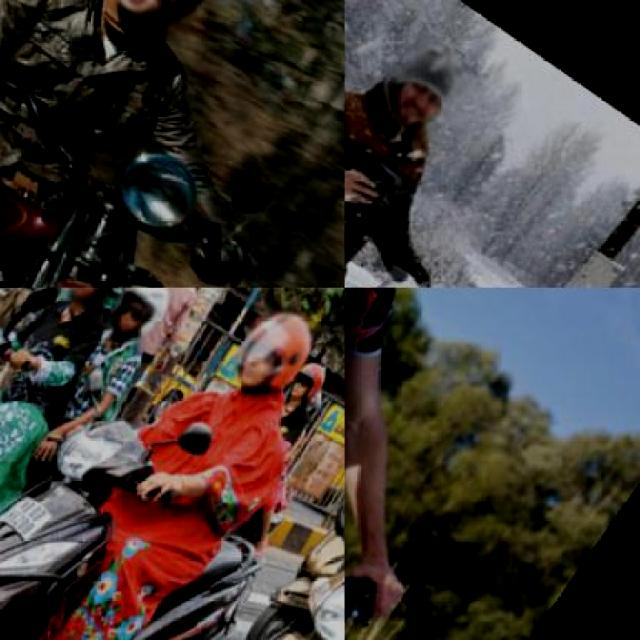With Helmet: (218, 288, 332, 406), (100, 288, 183, 349), (46, 288, 149, 320), (283, 350, 335, 407)
Without Helmet: (369, 21, 486, 142), (82, 0, 243, 49)
